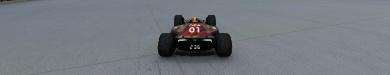Car: (157, 14, 232, 57)
